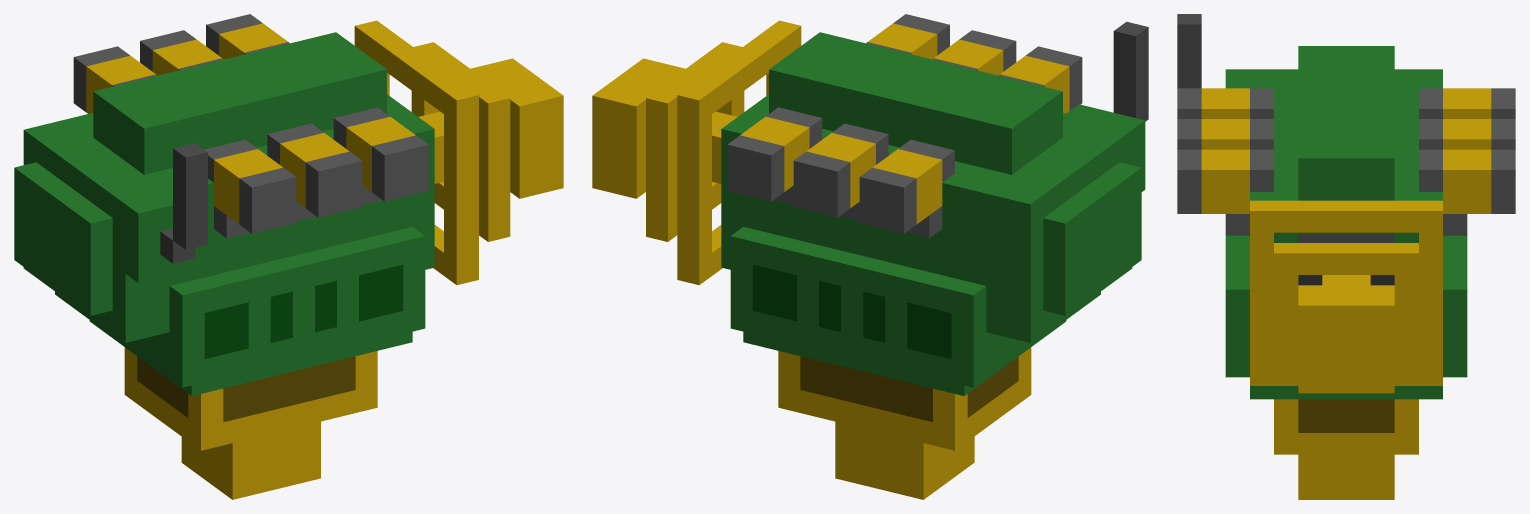
Rendered from turret.obj.
3 views of the same model, side by side, from view 1: azimuth 30°, elevation 25°; view 2: azimuth 150°, elevation 25°; view 3: azimuth 270°, elevation 25° (orthographic). The views are drawn at different scales.
Visible parts, largest first — view 1: default; view 2: default; view 3: default.
Part boxes in pixels (x1=…): default: x1=14, y1=14, x2=563, y2=499; default: x1=592, y1=14, x2=1148, y2=499; default: x1=1177, y1=14, x2=1515, y2=499.
Bounding box in the file's own units: 2.2 × 1.8 × 1.4.
1 material, 1 textured.
